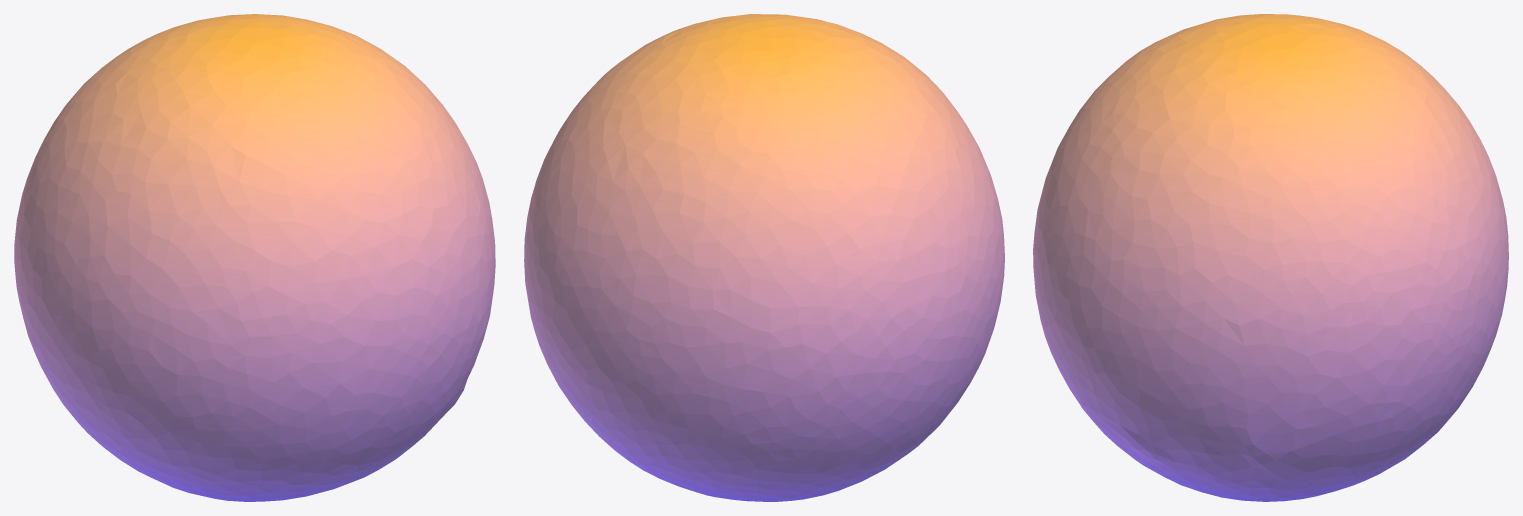
The model's file is 1_cyb_laser_gradient_fish_scales_2888_2026_10_03_84c7f8.glb.
3 renders of one model, left to right at view 1: azimuth 30°, elevation 25°; view 2: azimuth 150°, elevation 25°; view 3: azimuth 270°, elevation 25°, orthographic.
Visible parts, largest first — view 1: geometry_0; view 2: geometry_0; view 3: geometry_0.
Part boxes in pixels (x1,y1,x2,y2): geometry_0: [14, 14, 495, 501]; geometry_0: [524, 14, 1004, 501]; geometry_0: [1033, 14, 1508, 501].
Size of the model in its own units: 0.9934 by 1 by 0.9955.
